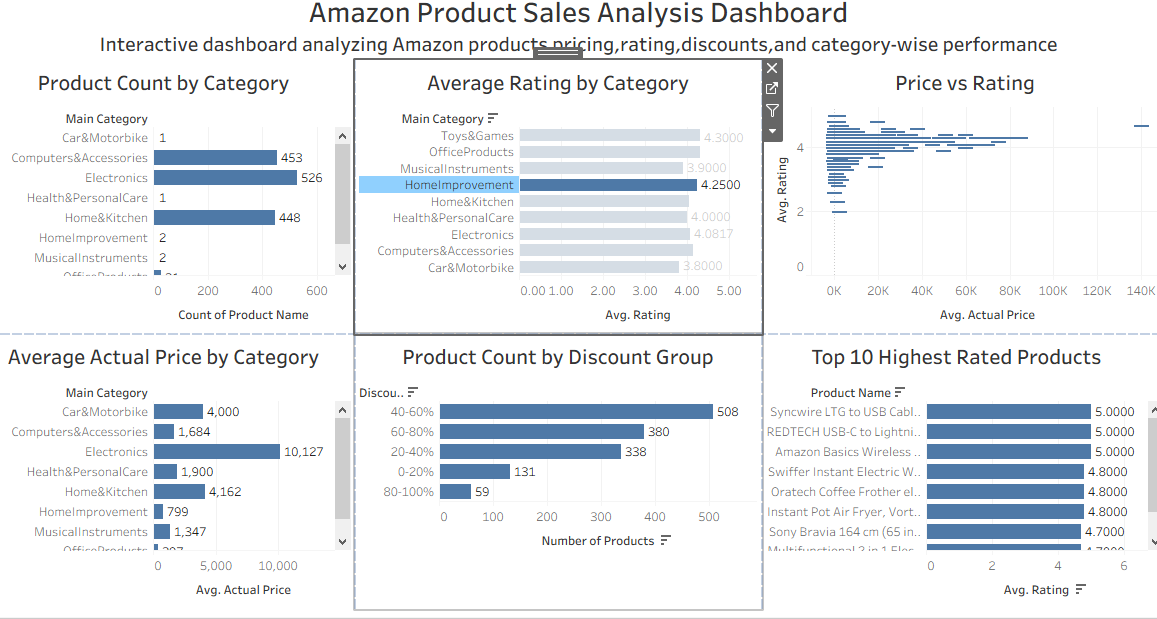

The dashboard page shown, as its layout file describes it:
{"tool":"tableau","page":{"name":"Dashboard 1","canvas":[1000,1000],"units":"permille","ordinal":0},"visuals":[{"type":"title","box":[6.9,13.5,986.3,119.9]},{"type":"worksheet","title":"Product Count","mark":"Bar","rows":["Calculation_0839223169220609"],"cols":["product_name"],"box":[6.9,133.4,306.5,426.5]},{"type":"worksheet","title":"Average Rating","mark":"Bar","rows":["Calculation_0839223169220609"],"cols":["rating"],"box":[313.3,133.4,339.9,426.5]},{"type":"worksheet","title":"Price vs Rating","mark":"GanttBar","rows":["rating"],"cols":["actual_price"],"box":[653.2,133.4,339.9,426.5]},{"type":"worksheet","title":" Average Actual Price by category","mark":"Automatic","rows":["Calculation_0839223169220609"],"cols":["actual_price"],"box":[6.9,559.9,306.5,426.6]},{"type":"worksheet","title":"Product Count by Discount Group","mark":"Automatic","rows":["discount_group"],"cols":["product_name"],"box":[313.3,559.9,339.9,426.6]},{"type":"worksheet","title":"Top 10 Highest Rated products","mark":"Automatic","rows":["product_name"],"cols":["rating"],"box":[653.2,559.9,339.9,426.6]}]}

Visuals, with their boxes on the dashboard's canvas, which has no fixed pixel size, in thousandths of its width and height (x1, y1, x2, y2). These are canvas units, not pixel positions in the 1157x619 screenshot, which may show the page scaled, cropped or inside an application window:
title: bbox=(7, 14, 993, 133)
"Product Count" worksheet (Bar marks): bbox=(7, 133, 313, 560)
"Average Rating" worksheet (Bar marks): bbox=(313, 133, 653, 560)
"Price vs Rating" worksheet (GanttBar marks): bbox=(653, 133, 993, 560)
" Average Actual Price by category" worksheet: bbox=(7, 560, 313, 986)
"Product Count by Discount Group" worksheet: bbox=(313, 560, 653, 986)
"Top 10 Highest Rated products" worksheet: bbox=(653, 560, 993, 986)
